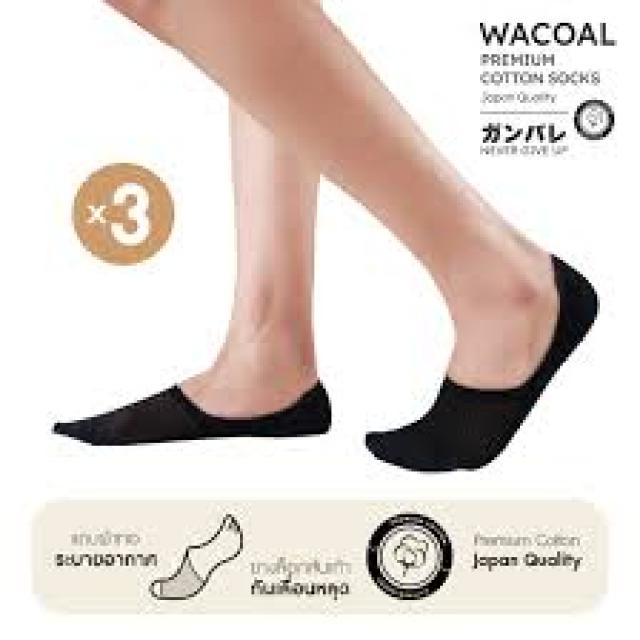sock: (363, 252, 597, 472), (51, 377, 332, 446)
